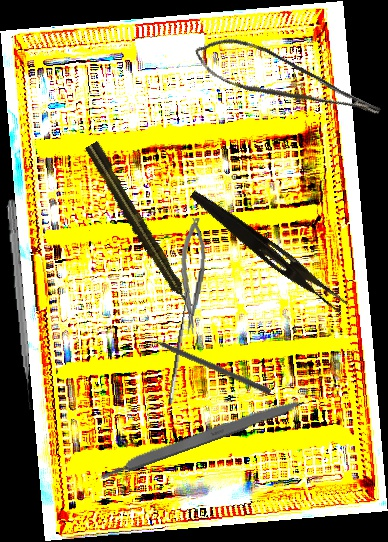Dressing Forceps: (183, 187, 353, 315)
Handpiece: (83, 139, 197, 313)
Hook Surgical: (158, 286, 193, 405)
Micro Scissor: (187, 21, 385, 148)
Needle Holder: (174, 217, 210, 335)
Pusher: (136, 328, 273, 396), (4, 198, 35, 411)
Scalpel Handle: (95, 392, 308, 483)
